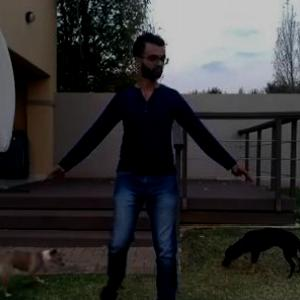land: (70, 51, 226, 299)
